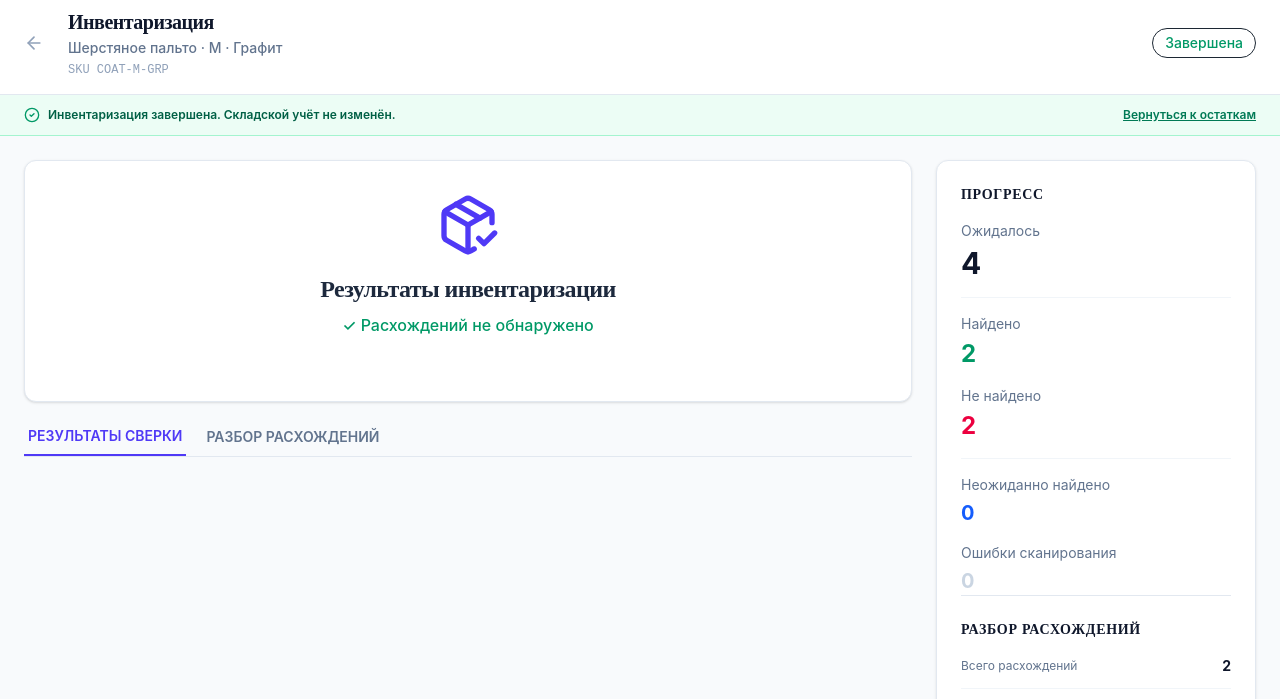
Test case: AdminInventoryReconciliation › renders resolution plan tab with Russian human titles, severities, historical context and actions
Click "РАЗБОР РАСХОЖДЕНИЙ"
What coordinates should you click on to do the following:
click the tab "РАЗБОР РАСХОЖДЕНИЙ"
I would click on:
 (293, 441)
Its box is top-left (202, 426), bottom-right (384, 456).
(page scrolled)
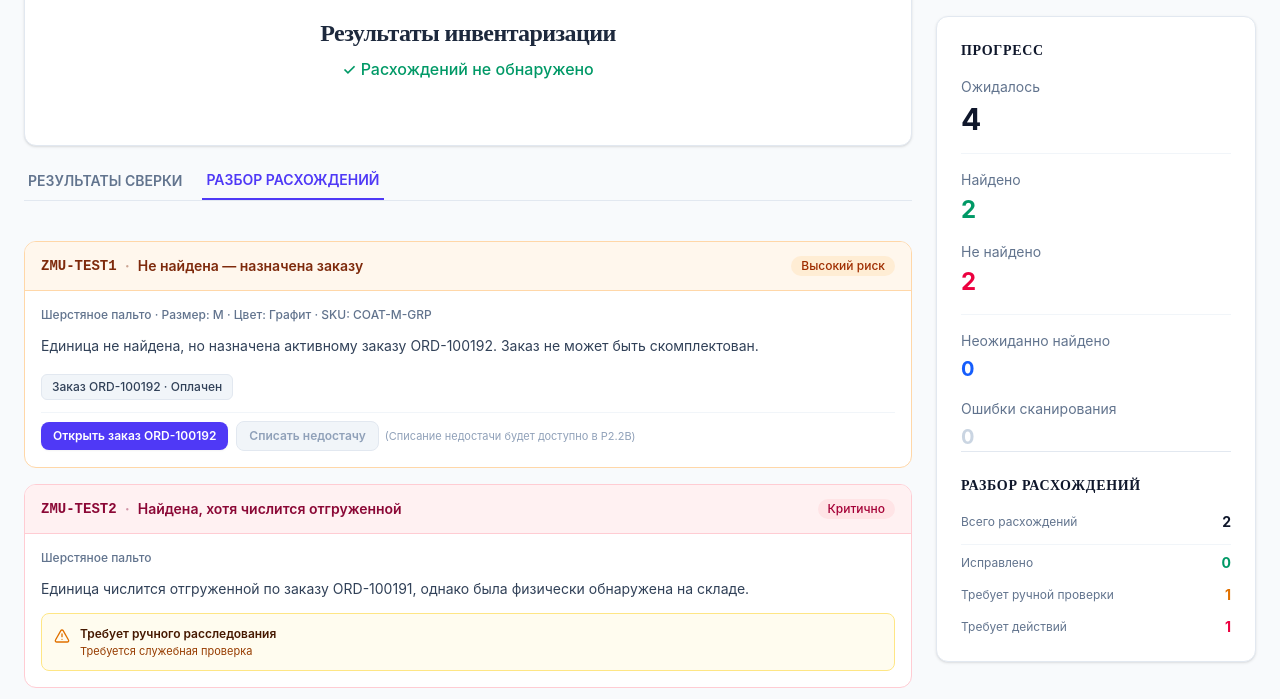
expect the text "Не найдена — назначена заказу" is shown: met, box top-left (138, 256), bottom-right (363, 276)
expect the text "Найдена, хотя числится отгруженной" is shown: met, box top-left (138, 499), bottom-right (402, 519)
expect the text "Высокий риск" is shown: met, box top-left (791, 256), bottom-right (895, 276)
